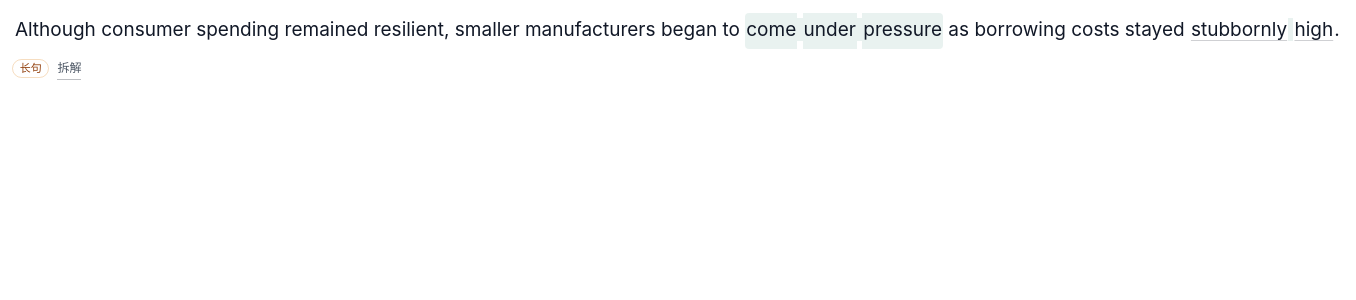
SentenceBlock › opens an AI breakdown that omits modifiers without crashing
The width and height of the screenshot is (1356, 300).
Click the button "拆解" at x=69, y=69, box [57,58,81,80]
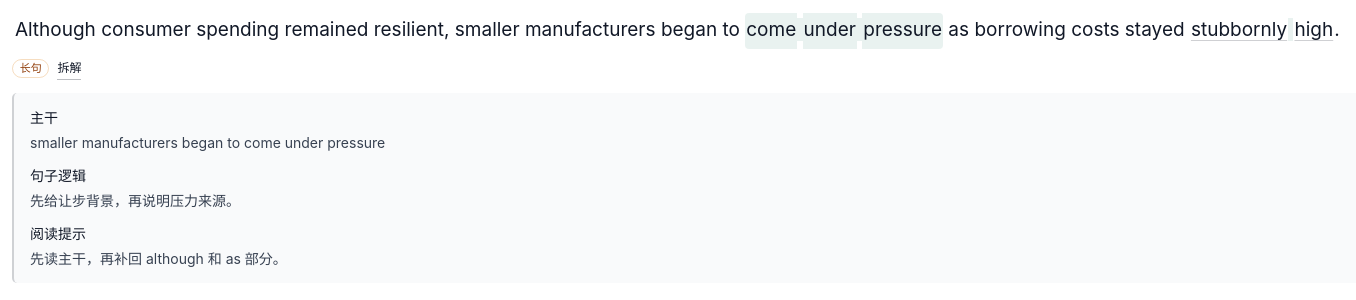
Now the text "主干" is shown, box [30,109,58,126]
